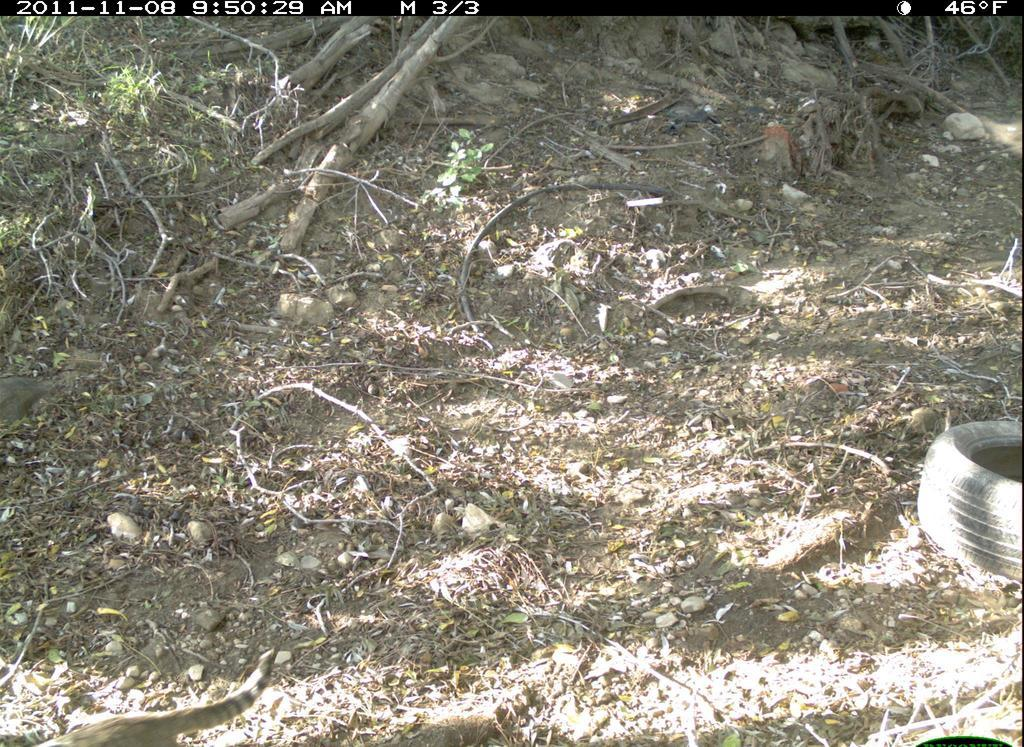cat: (21, 642, 285, 745)
